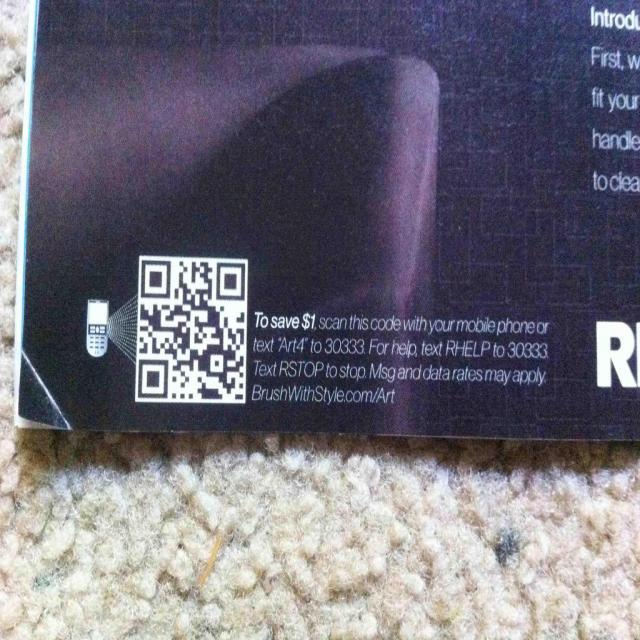qr-code: (137, 259, 245, 399)
